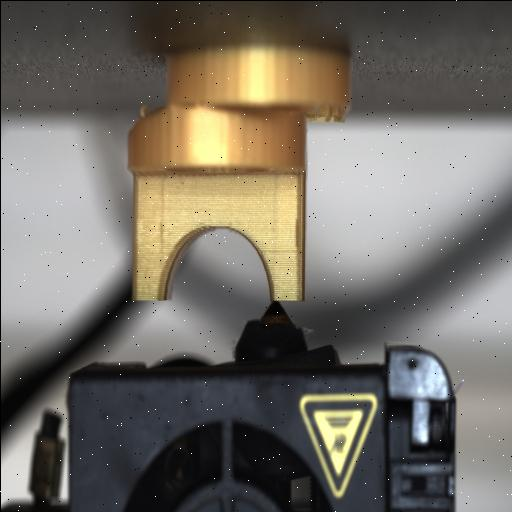layer_shift: (126, 95, 352, 131)
